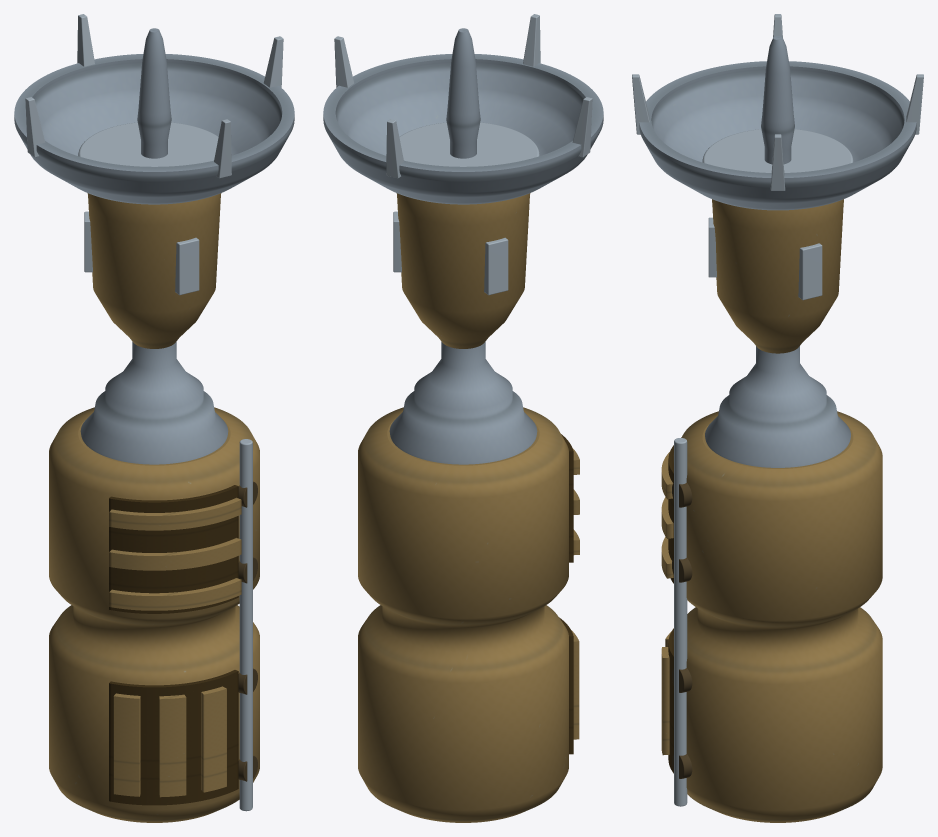
3 renders of one model, left to right at view 1: azimuth 30°, elevation 25°; view 2: azimuth 150°, elevation 25°; view 3: azimuth 270°, elevation 25°, orthographic.
Parts seen in each view (by area): view 1: RI14 twin chamber lower body, RI14 open upturned crown, RI14 bronze upper vessel, RI14 tapered grey connector, RI14 refined casing upper backing, RI14 refined casing lower backing, RI14 silver front conduit, RI14 crown floor, RI14 central crown probe, RI14 refined casing lower vertical rib 0, RI14 refined casing lower vertical rib 1, RI14 refined casing lower vertical rib 2 (+8 smaller); view 2: RI14 twin chamber lower body, RI14 open upturned crown, RI14 bronze upper vessel, RI14 tapered grey connector, RI14 crown floor, RI14 central crown probe, RI14 upper vessel alloy inset 2, RI14 crown upright 1, RI14 crown upright 2, RI14 crown upright 0, RI14 refined casing lower vertical rib 0, RI14 crown upright 3 (+2 smaller); view 3: RI14 twin chamber lower body, RI14 open upturned crown, RI14 bronze upper vessel, RI14 tapered grey connector, RI14 crown floor, RI14 silver front conduit, RI14 central crown probe, RI14 upper vessel alloy inset 1, RI14 refined casing lower vertical rib 2, RI14 refined casing lower backing, RI14 crown upright 0, RI14 crown upright 1 (+1 smaller).
Boxes of the visible parts, x1,y1,x2,y2 form: RI14 twin chamber lower body: (49, 407, 259, 822); RI14 open upturned crown: (14, 54, 294, 204); RI14 bronze upper vessel: (87, 193, 221, 348); RI14 tapered grey connector: (80, 341, 228, 464); RI14 refined casing upper backing: (109, 485, 238, 613); RI14 refined casing lower backing: (109, 670, 238, 805); RI14 silver front conduit: (239, 439, 252, 811); RI14 crown floor: (78, 122, 218, 166); RI14 central crown probe: (137, 28, 171, 158); RI14 refined casing lower vertical rib 0: (113, 693, 140, 796); RI14 refined casing lower vertical rib 1: (159, 694, 186, 797); RI14 refined casing lower vertical rib 2: (201, 686, 226, 792); RI14 twin chamber lower body: (358, 407, 568, 822); RI14 open upturned crown: (323, 54, 603, 204); RI14 bronze upper vessel: (396, 193, 530, 348); RI14 tapered grey connector: (389, 341, 537, 464); RI14 crown floor: (399, 122, 539, 166); RI14 central crown probe: (446, 28, 480, 158); RI14 upper vessel alloy inset 2: (484, 237, 508, 295); RI14 crown upright 1: (386, 119, 403, 178); RI14 crown upright 2: (572, 97, 592, 157); RI14 crown upright 0: (334, 36, 354, 87); RI14 refined casing lower vertical rib 0: (571, 630, 579, 739); RI14 crown upright 3: (523, 14, 540, 66); RI14 twin chamber lower body: (673, 411, 882, 822); RI14 open upturned crown: (639, 61, 916, 210); RI14 bronze upper vessel: (712, 199, 843, 353); RI14 tapered grey connector: (705, 346, 850, 467); RI14 crown floor: (702, 129, 853, 172); RI14 silver front conduit: (674, 438, 687, 806); RI14 central crown probe: (761, 36, 794, 164); RI14 upper vessel alloy inset 1: (798, 243, 822, 300); RI14 refined casing lower vertical rib 2: (661, 647, 669, 755); RI14 refined casing lower backing: (668, 628, 673, 773); RI14 crown upright 0: (770, 134, 785, 190); RI14 crown upright 1: (906, 74, 923, 134).
Bounding box in the file's own units: 1.2 × 3.4 × 1.2.
7 materials, 5 textured.
